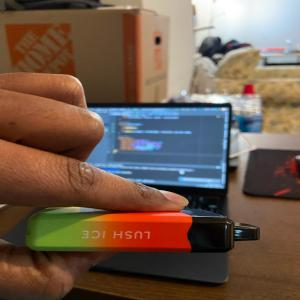Swift-E-Ciggirate: (20, 207, 265, 257)
